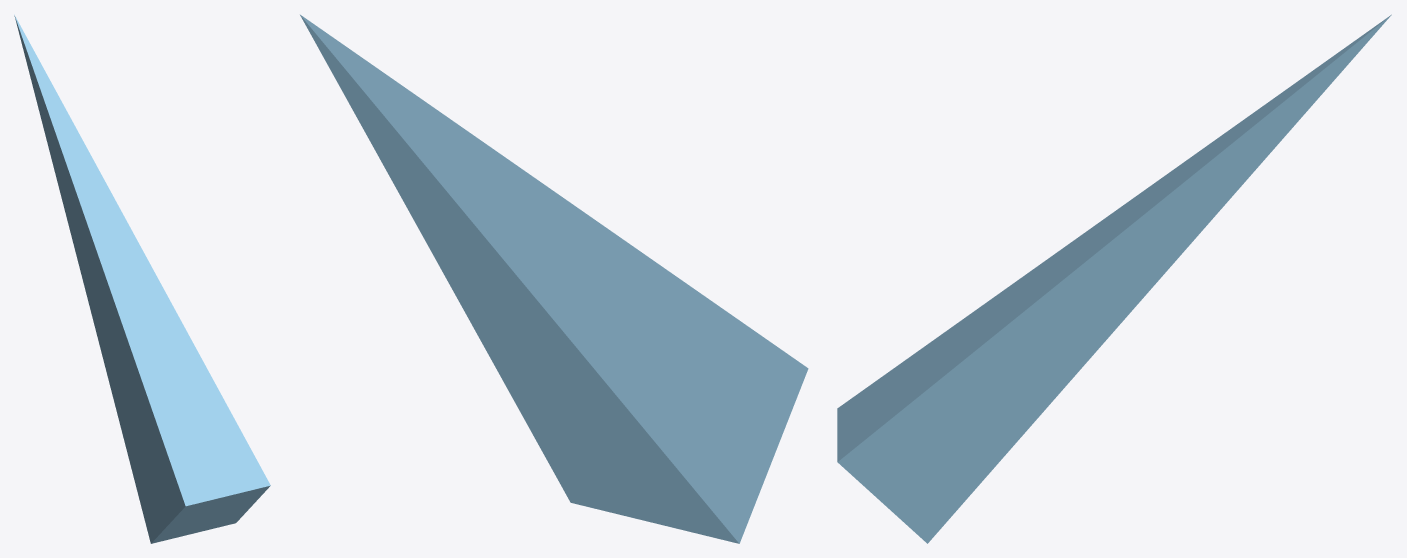
The model's file is ee_simple_tilted.dae.
3 views of the same model, side by side, from view 1: azimuth 30°, elevation 25°; view 2: azimuth 150°, elevation 25°; view 3: azimuth 270°, elevation 25° (orthographic). The views are drawn at different scales.
Visible parts, largest first — view 1: ID2; view 2: ID2; view 3: ID2.
Boxes of the visible parts, <box> form: ID2: <box>14,14,270,543</box>; ID2: <box>300,14,808,543</box>; ID2: <box>837,14,1391,543</box>.
Bounding box in the file's own units: 0.05 × 0.2177 × 0.2177.
